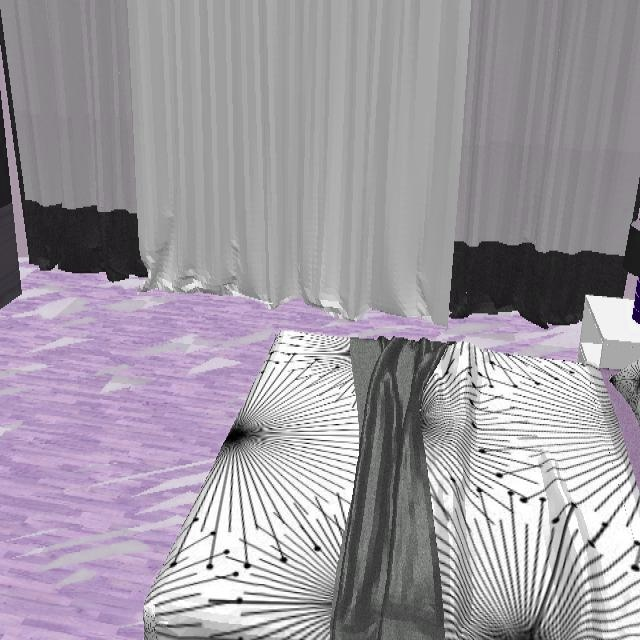bed: (141, 331, 640, 640)
nighttable: (579, 296, 640, 380)
